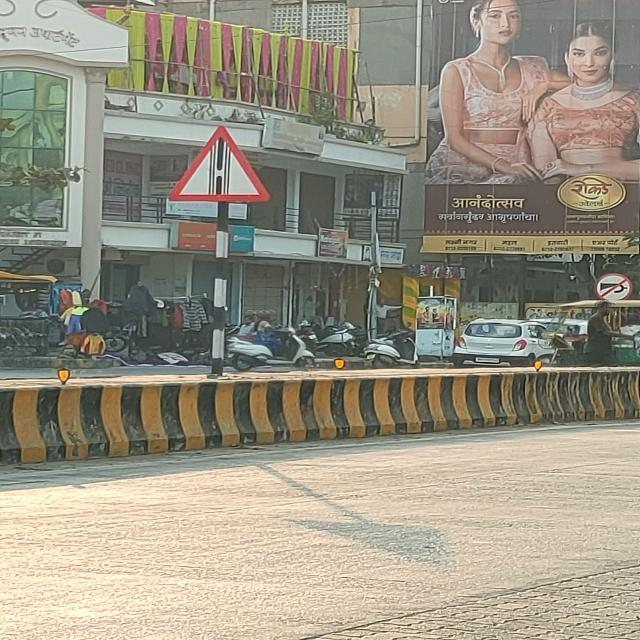ferry: (169, 126, 271, 202)
